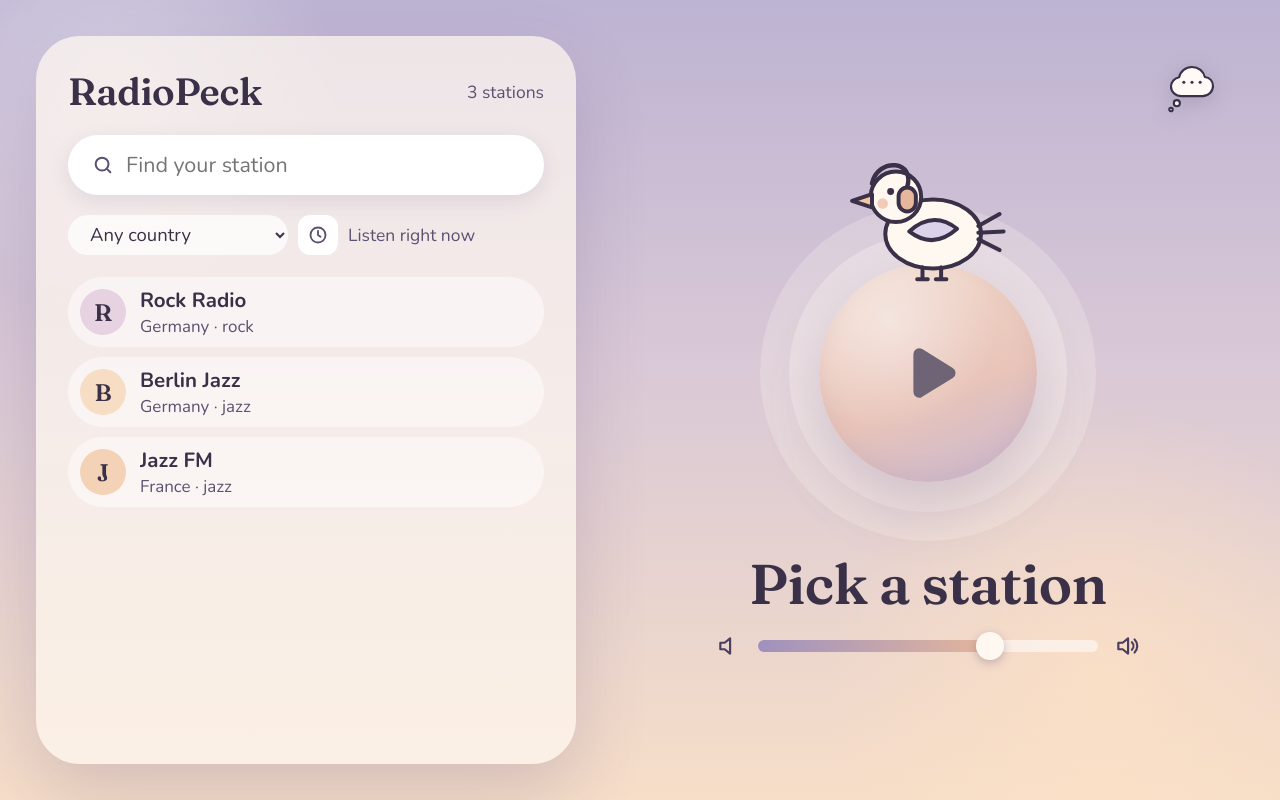
it: App › shows "No stations found" when nothing matches the search
Type "zzz" into the search field named "Search stations". click: (306, 165)
box: [68,135,544,195]
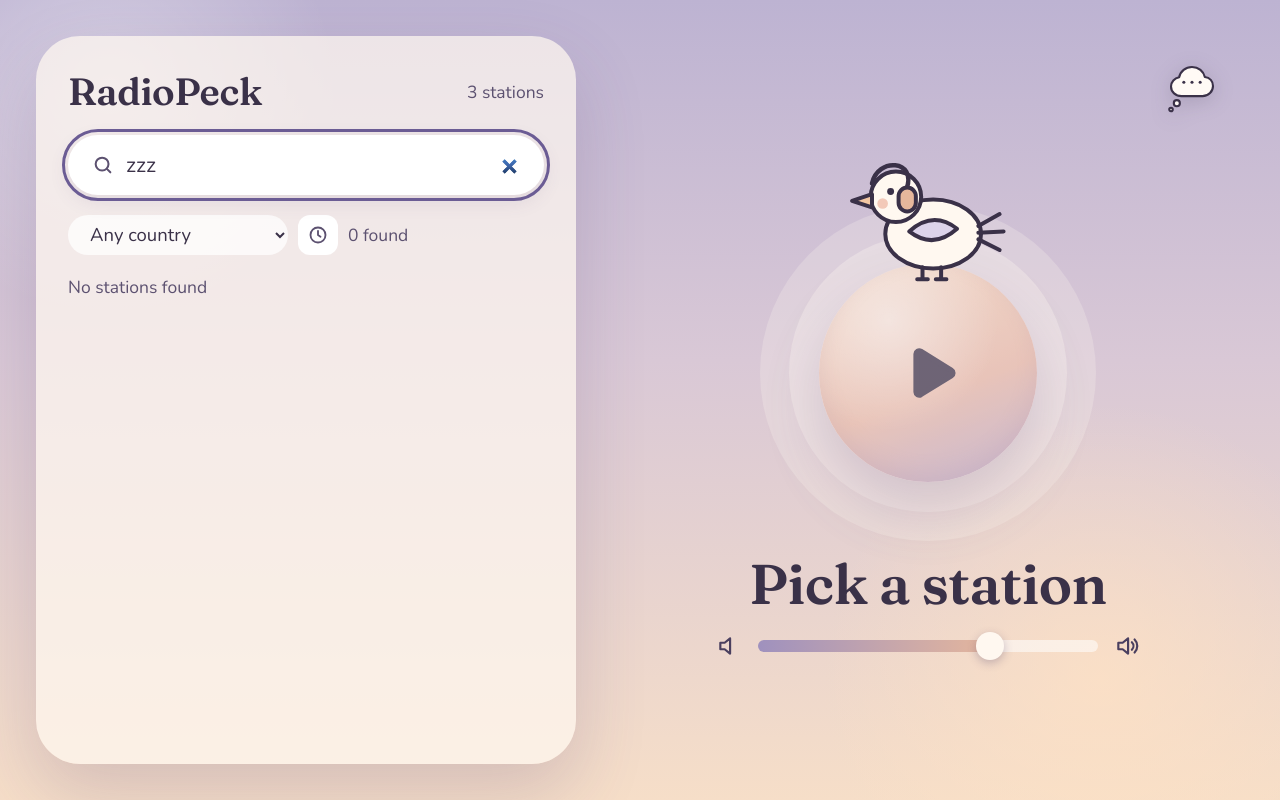
Now the text "No stations found" is shown, box [68,275,207,299]
Now the text "0 found" is shown, box [348,223,408,247]
